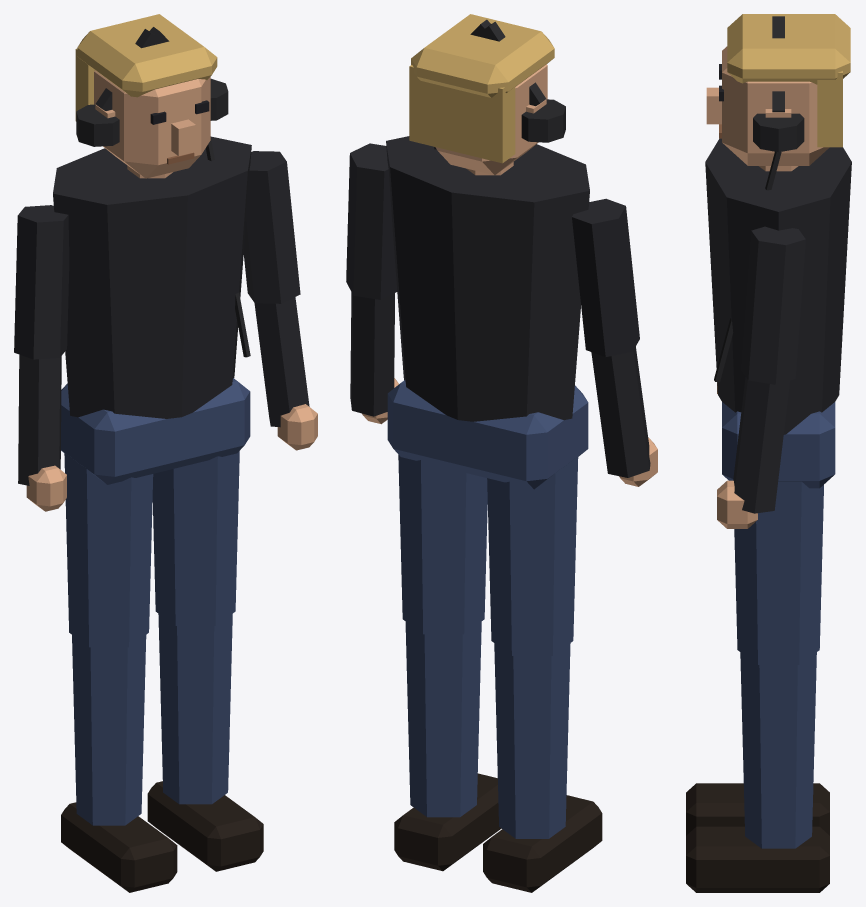
Rendered from person.res-gamer.glb.
3 views of the same model, side by side, from view 1: azimuth 30°, elevation 25°; view 2: azimuth 150°, elevation 25°; view 3: azimuth 270°, elevation 25° (orthographic). The views are drawn at different scales.
Parts seen in each view (by area): view 1: torso, thigh-1, thigh1, shin1, shin-1, hips, upper-1, hair, upper1, head, shoe-1, shoe1 (+9 smaller); view 2: torso, thigh-1, thigh1, shin1, shin-1, hips, upper-1, hair, hair-back, upper1, shoe-1, fore-1 (+4 smaller); view 3: torso, thigh1, shin1, upper1, shoe1, hair, head, fore1, hips, shoe-1, hair-back, cup1 (+4 smaller).
Part boxes in pixels (x1,y1,x2,y2): torso: (53, 136, 251, 418); thigh-1: (64, 453, 153, 647); thigh1: (152, 451, 239, 625); shin1: (158, 613, 232, 804); shin-1: (72, 635, 146, 825); hips: (61, 378, 250, 484); upper-1: (14, 205, 69, 359); hair: (77, 14, 217, 97); upper1: (243, 151, 300, 303); head: (94, 70, 210, 178); shoe-1: (61, 802, 177, 892); shoe1: (147, 781, 263, 871); torso: (386, 136, 589, 421); thigh-1: (487, 456, 578, 655); thigh1: (398, 454, 487, 634); shin1: (405, 622, 481, 817); shin-1: (494, 643, 570, 838); hips: (387, 380, 588, 489); upper-1: (572, 198, 639, 356); hair: (411, 14, 554, 97); hair-back: (409, 65, 515, 163); upper1: (346, 143, 397, 299); shoe-1: (483, 795, 602, 892); fore-1: (591, 346, 650, 477); torso: (705, 138, 851, 434); thigh1: (734, 481, 823, 664); shin1: (740, 652, 816, 848); upper1: (741, 226, 805, 384); shoe1: (686, 826, 829, 892); hair: (727, 14, 850, 84); head: (722, 46, 829, 165); fore1: (733, 377, 789, 513); hips: (722, 402, 835, 488); shoe-1: (686, 783, 829, 835); hair-back: (817, 71, 842, 147); cup1: (753, 113, 804, 152).
Bounding box in the file's own units: 0.6746 × 1.81 × 0.3226.
